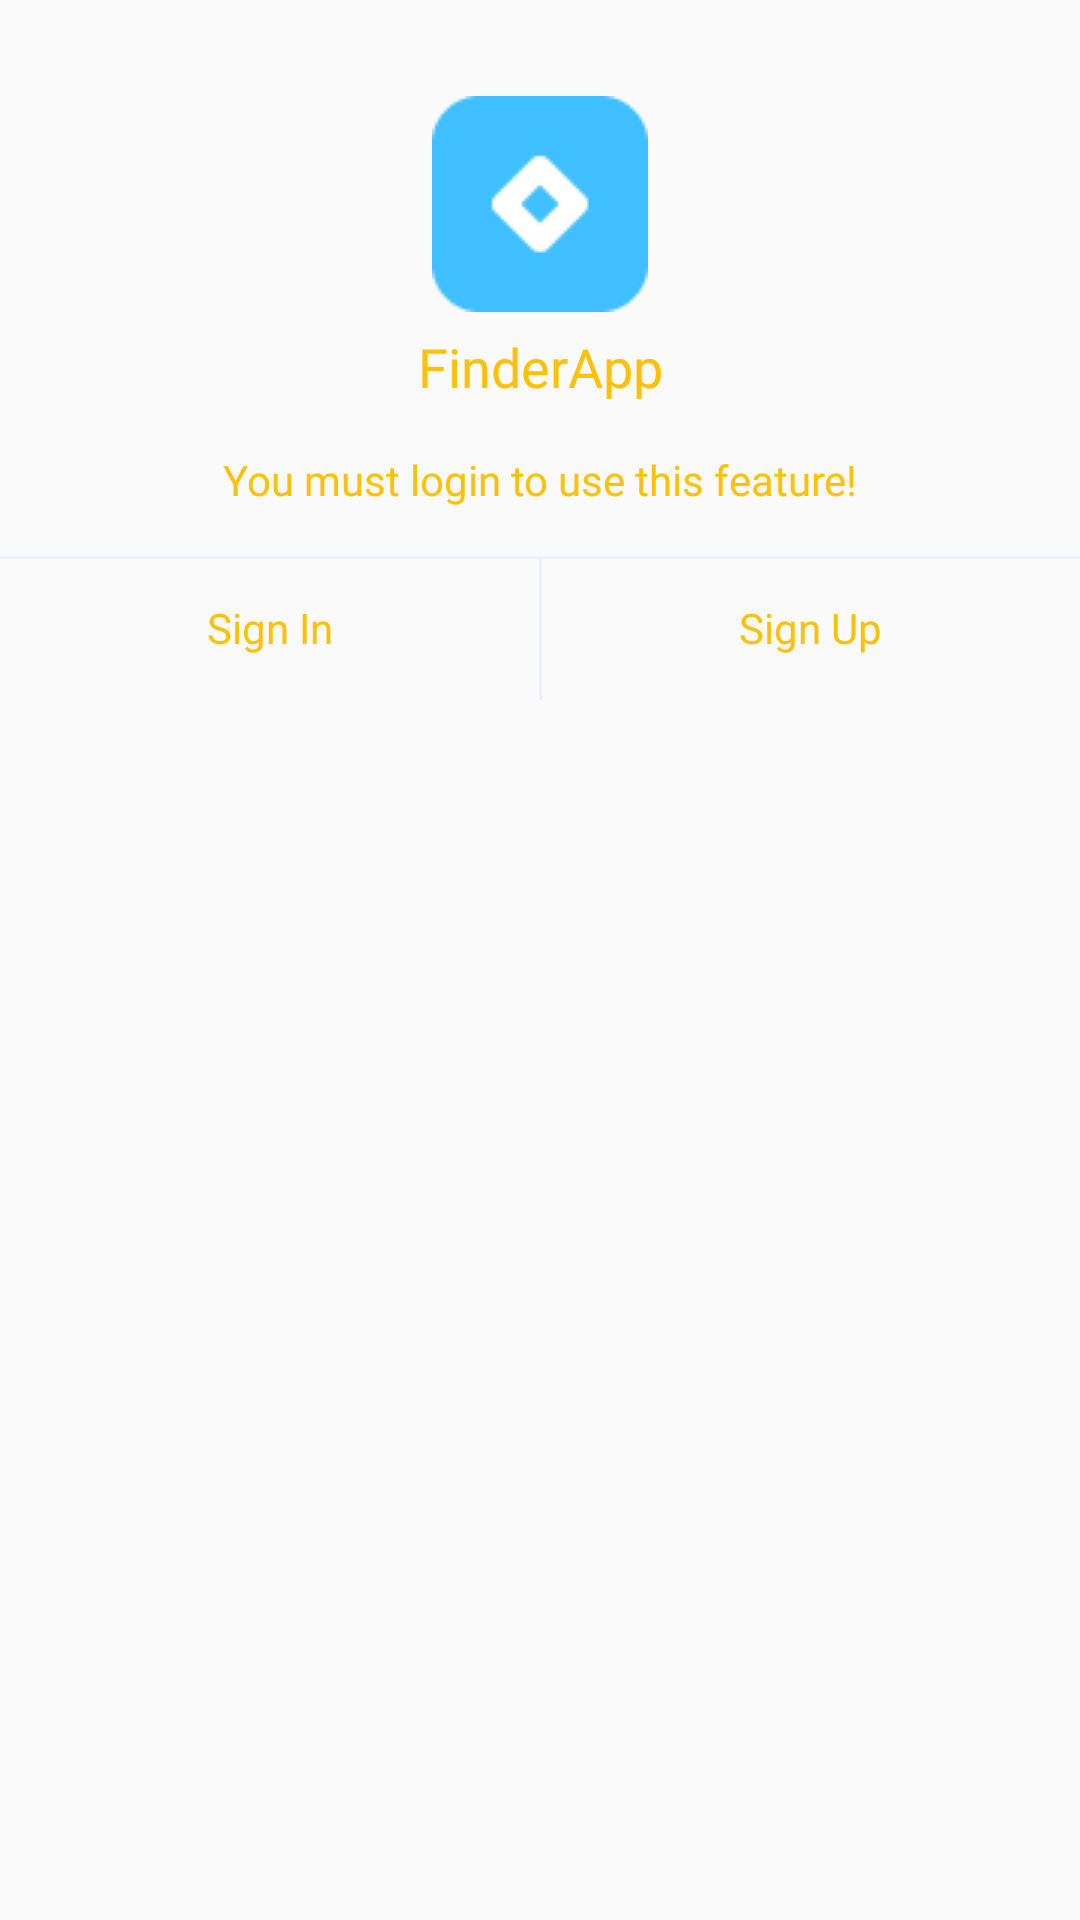

Icons on this 1080 x 1920 Android screen, each with the point to tap as (x,y):
singleiconblue: (540,204)
